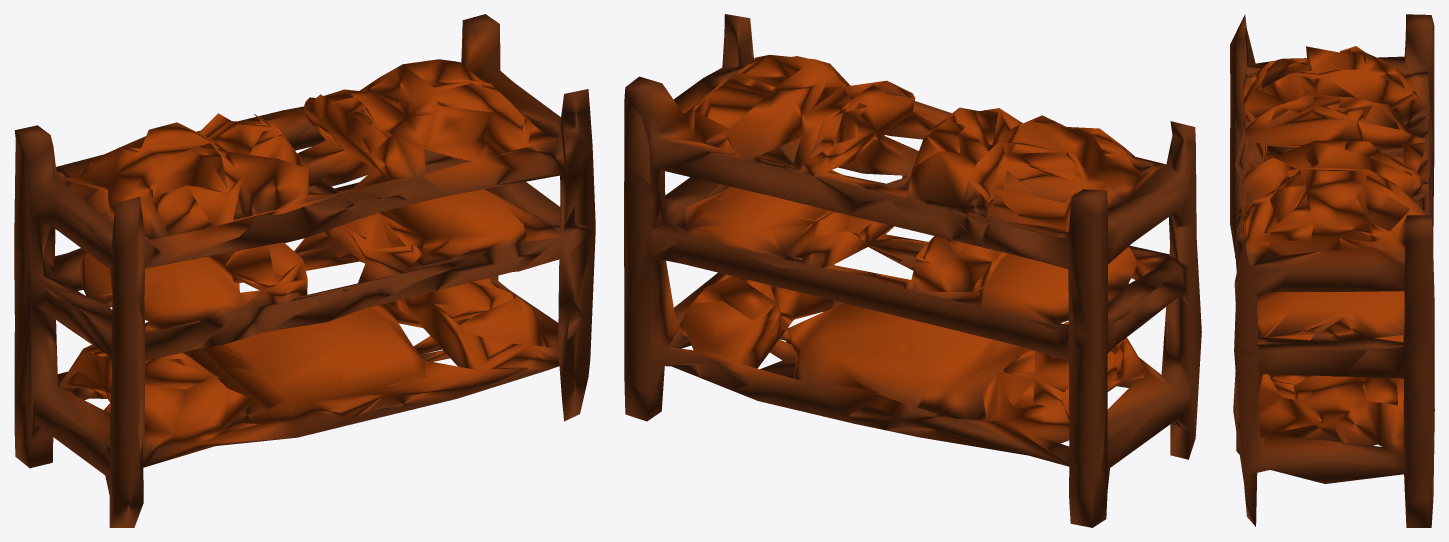
Rendered from gen3d-bread-rack-lod0.glb.
3 views of the same model, side by side, from view 1: azimuth 30°, elevation 25°; view 2: azimuth 150°, elevation 25°; view 3: azimuth 270°, elevation 25° (orthographic). The views are drawn at different scales.
Visible parts, largest first — view 1: part_0; view 2: part_0; view 3: part_0.
Part boxes in pixels (left/top/right/bottom): part_0: left=14, top=14, right=595, bottom=527; part_0: left=624, top=14, right=1201, bottom=527; part_0: left=1230, top=14, right=1434, bottom=527.
Bounding box in the file's own units: 1.47 × 0.9972 × 0.5983.
